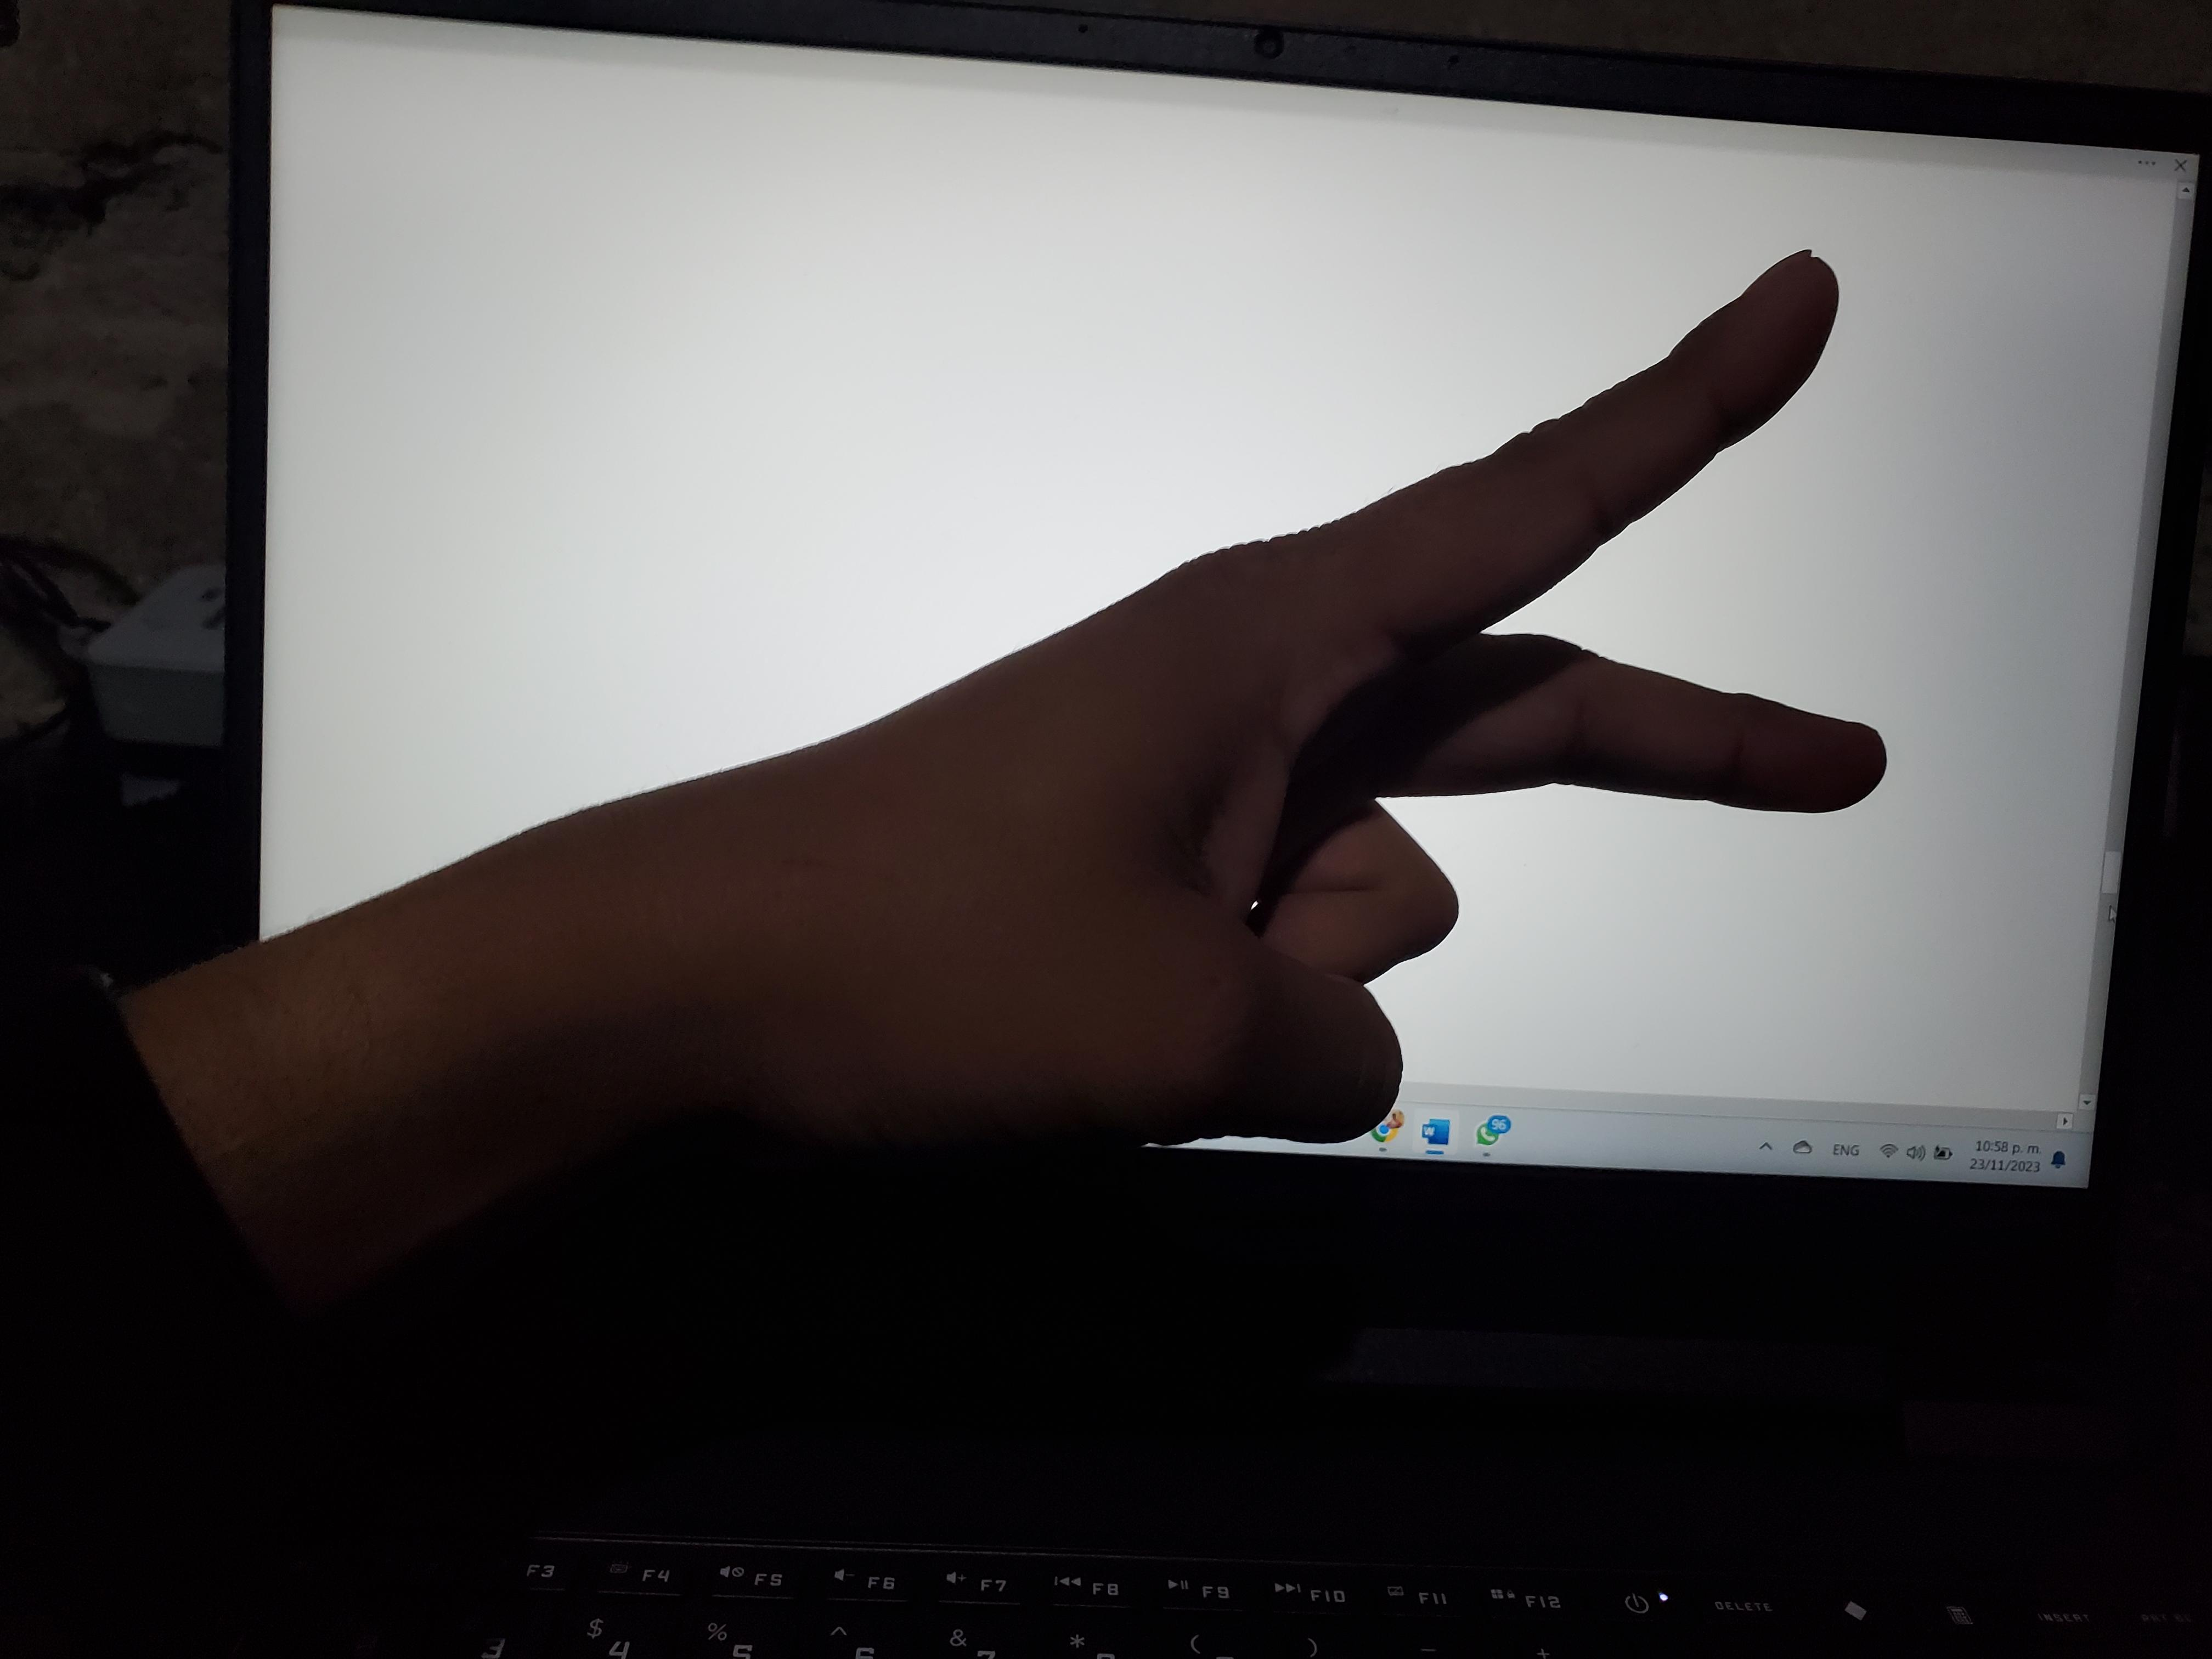Scissor: (155, 111, 2212, 1347)
